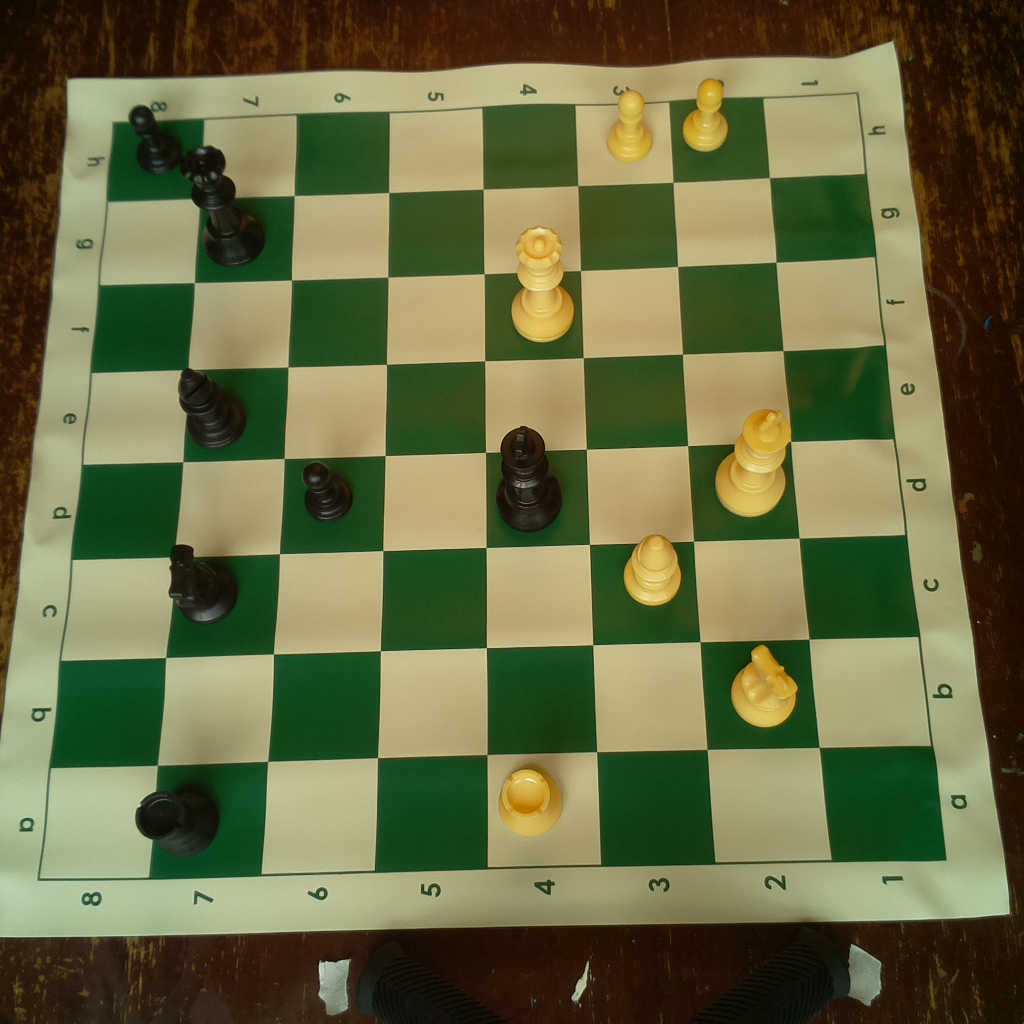black_bishop: (173, 364, 249, 453)
black_king: (494, 423, 567, 535)
black_knight: (157, 536, 241, 627)
black_pawn: (290, 454, 362, 523), (124, 104, 186, 178)
black_queen: (180, 140, 270, 269)
black_rook: (131, 782, 228, 857)
file_a: (34, 745, 949, 882)
file_b: (49, 635, 931, 769)
file_c: (62, 535, 920, 660)
file_d: (73, 436, 908, 560)
file_e: (84, 348, 893, 465)
file_f: (93, 256, 888, 377)
file_g: (101, 175, 875, 288)
file_h: (110, 95, 867, 204)
outline: (37, 90, 950, 880)
rank_1: (762, 92, 945, 865)
rank_2: (670, 100, 832, 864)
rank_3: (576, 102, 715, 866)
rank_4: (481, 106, 602, 865)
rank_5: (373, 108, 488, 874)
rank_6: (259, 110, 390, 878)
rank_7: (150, 113, 296, 879)
rank_8: (37, 119, 203, 883)
white_bishop: (621, 531, 688, 613)
white_king: (715, 404, 790, 515)
white_knight: (728, 643, 799, 731)
white_pawn: (602, 86, 660, 167), (676, 74, 734, 154)
white_queen: (502, 221, 576, 345)
white_rook: (494, 760, 568, 839)
